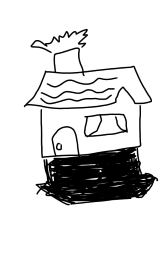door: (48, 125, 84, 160)
open_window: (77, 110, 133, 141)
roof: (20, 67, 154, 111)
shadow: (30, 151, 154, 212)
smoking_chimney: (28, 21, 93, 70)
wall: (34, 98, 146, 160)
